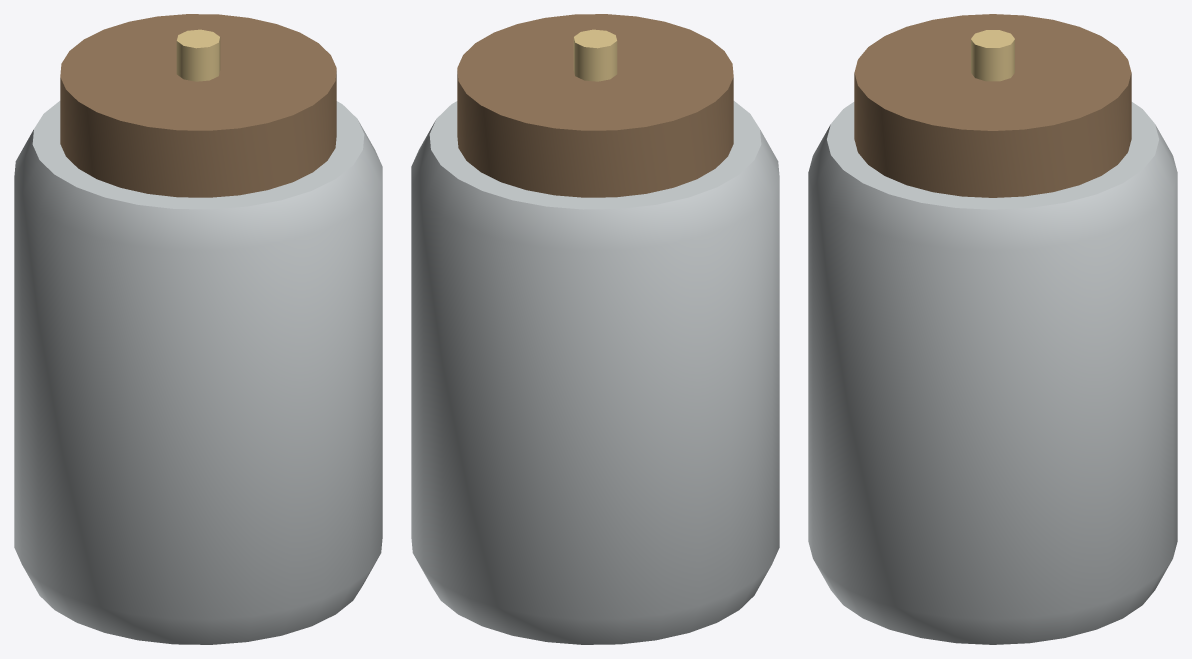
The model's file is chocolate-making-and-confectionery-cocoa-nib-storage-j-ba5e9341__39169.glb.
3 views of the same model, side by side, from view 1: azimuth 30°, elevation 25°; view 2: azimuth 150°, elevation 25°; view 3: azimuth 270°, elevation 25° (orthographic).
Visible parts, largest first — view 1: cocoa-nib-storage-jar; view 2: cocoa-nib-storage-jar; view 3: cocoa-nib-storage-jar.
Boxes of the visible parts, x1,y1,x2,y2 form: cocoa-nib-storage-jar: (14,14,382,644); cocoa-nib-storage-jar: (411,14,779,644); cocoa-nib-storage-jar: (808,14,1177,644).
Bounding box in the file's own units: 0.2 × 0.32 × 0.2.
